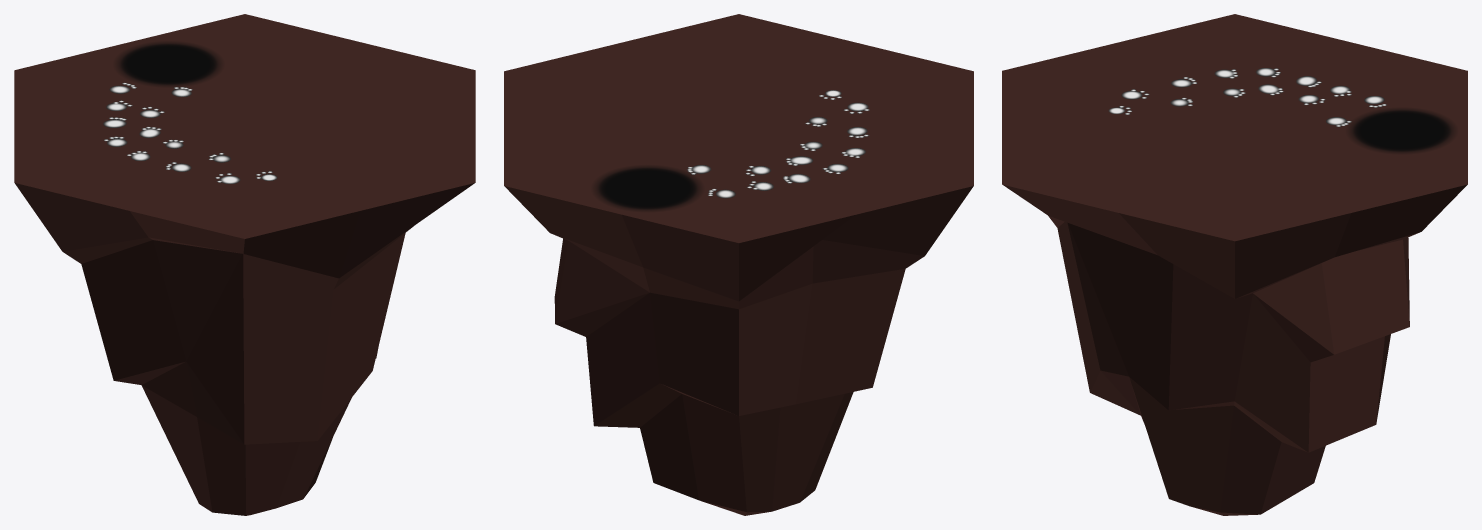
Rendered from island uv unwrap.fbx.
3 renders of one model, left to right at view 1: azimuth 30°, elevation 25°; view 2: azimuth 150°, elevation 25°; view 3: azimuth 270°, elevation 25°, orthographic.
Visible parts, largest first — view 1: SM_Tile_Hex_FloatingIsland_01; view 2: SM_Tile_Hex_FloatingIsland_01; view 3: SM_Tile_Hex_FloatingIsland_01.
Boxes of the visible parts, x1,y1,x2,y2 form: SM_Tile_Hex_FloatingIsland_01: (14,14,475,515); SM_Tile_Hex_FloatingIsland_01: (504,14,973,515); SM_Tile_Hex_FloatingIsland_01: (1002,14,1467,515).
Bounding box in the file's own units: 577 × 460 × 500.
